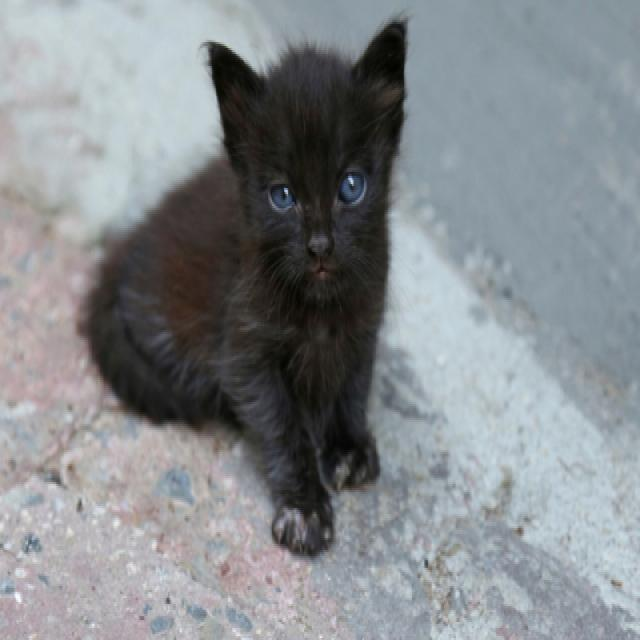cat: (88, 16, 424, 553)
